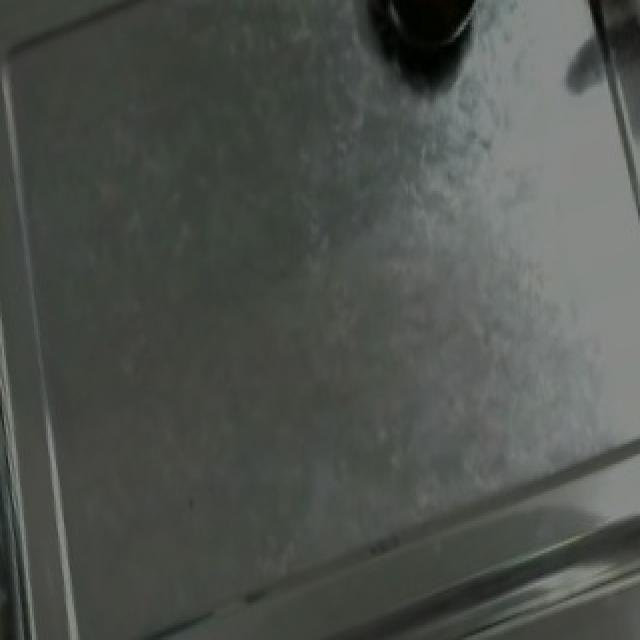Fruit: (362, 0, 496, 89)
